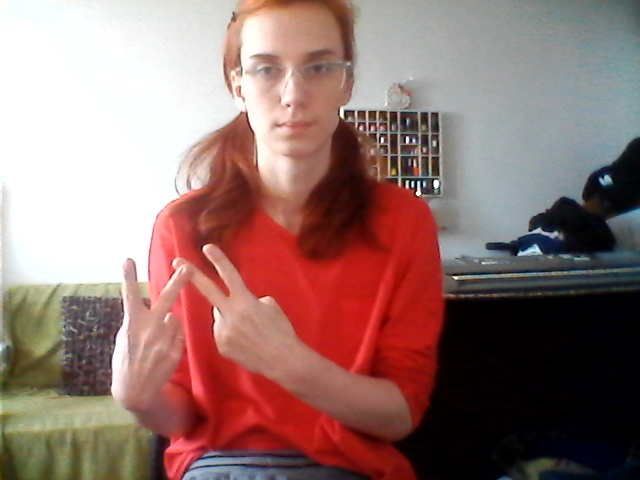w: (97, 241, 286, 381)
